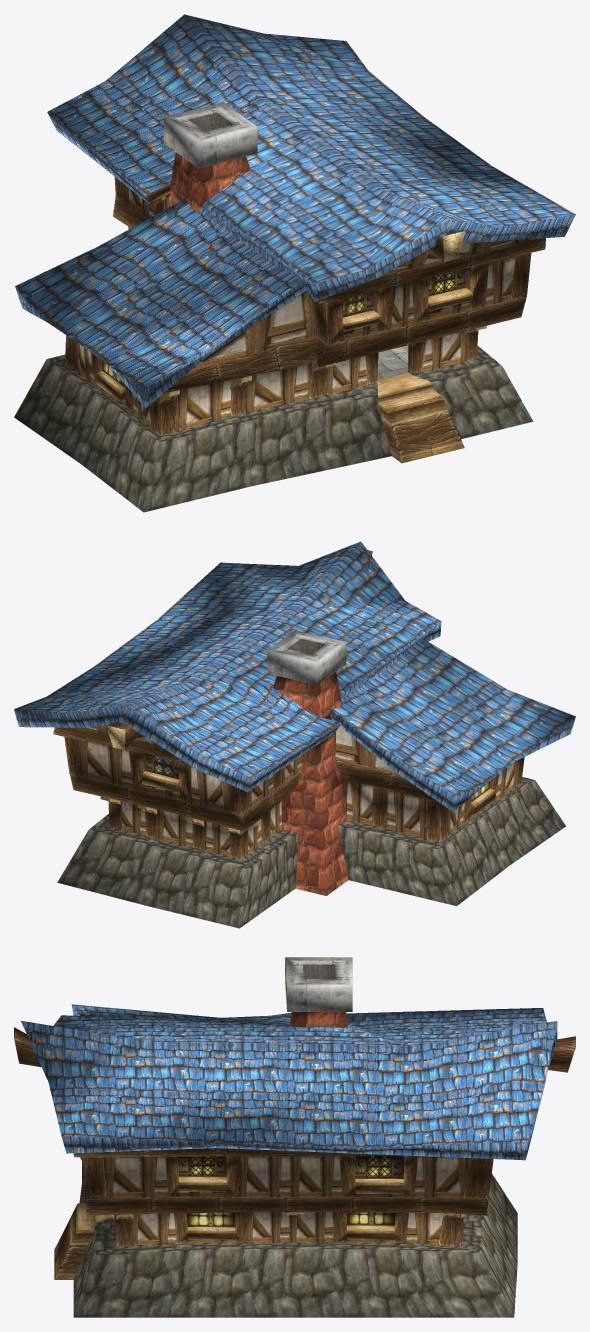
Rendered from humantwostory.glb.
The picture shows the model from 3 angles, top to bottom: view 1: azimuth 30°, elevation 25°; view 2: azimuth 150°, elevation 25°; view 3: azimuth 270°, elevation 25°; orthographic projection. The views are drawn at different scales.
Bounding box in the file's own units: 32.8 × 18.42 × 37.3.
15 materials, 15 textured.
